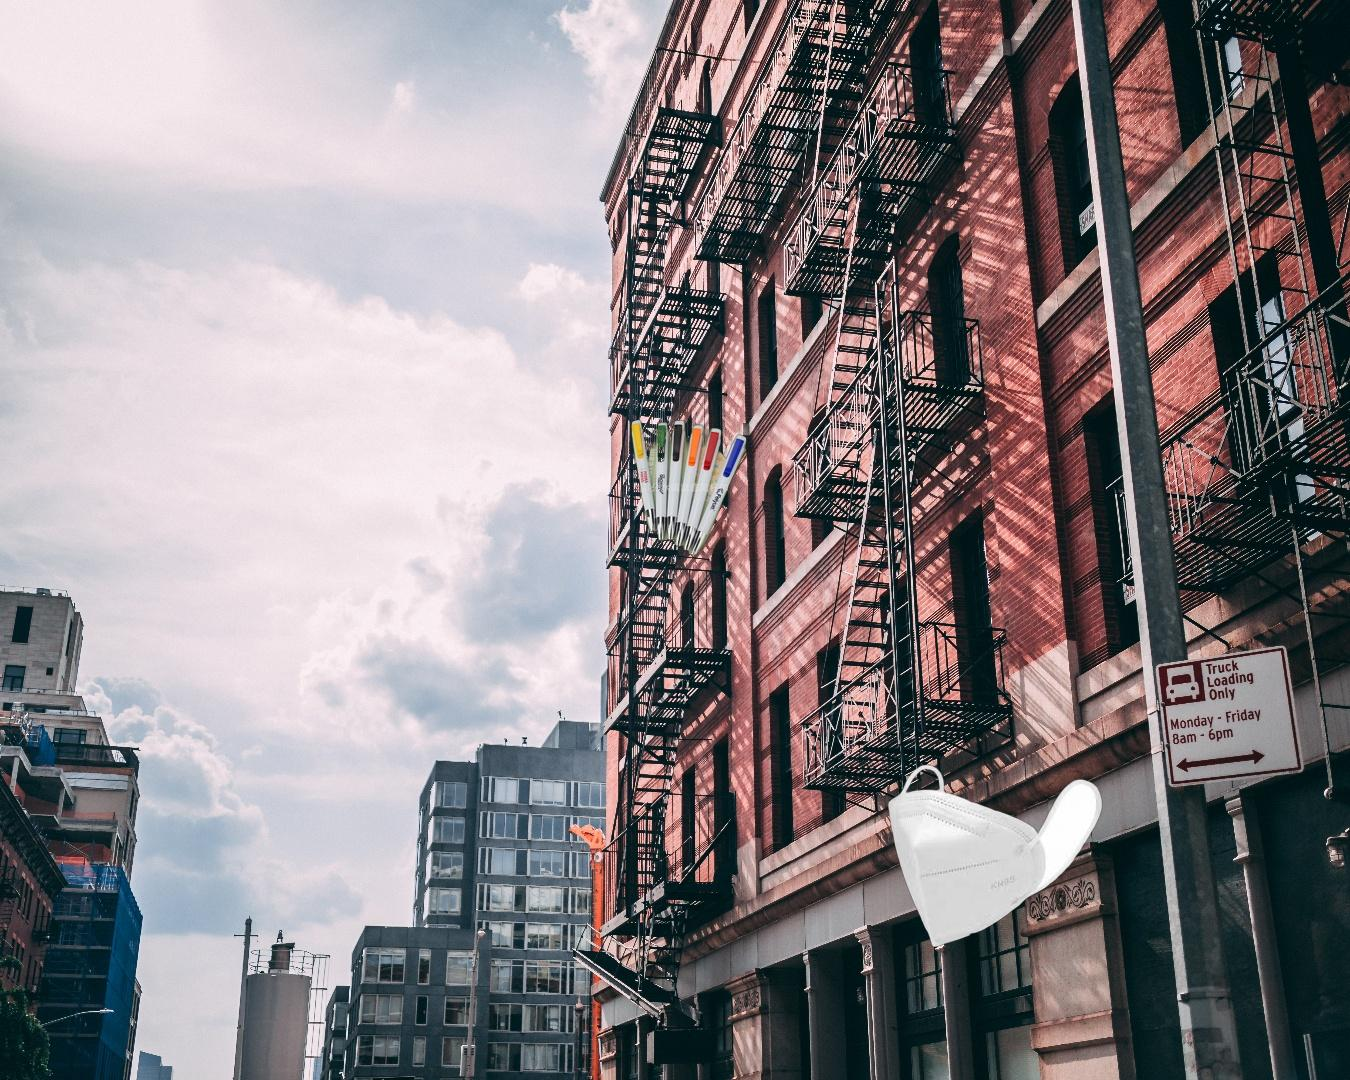penholder: (628, 411, 749, 558)
trash: (885, 762, 1105, 950)
